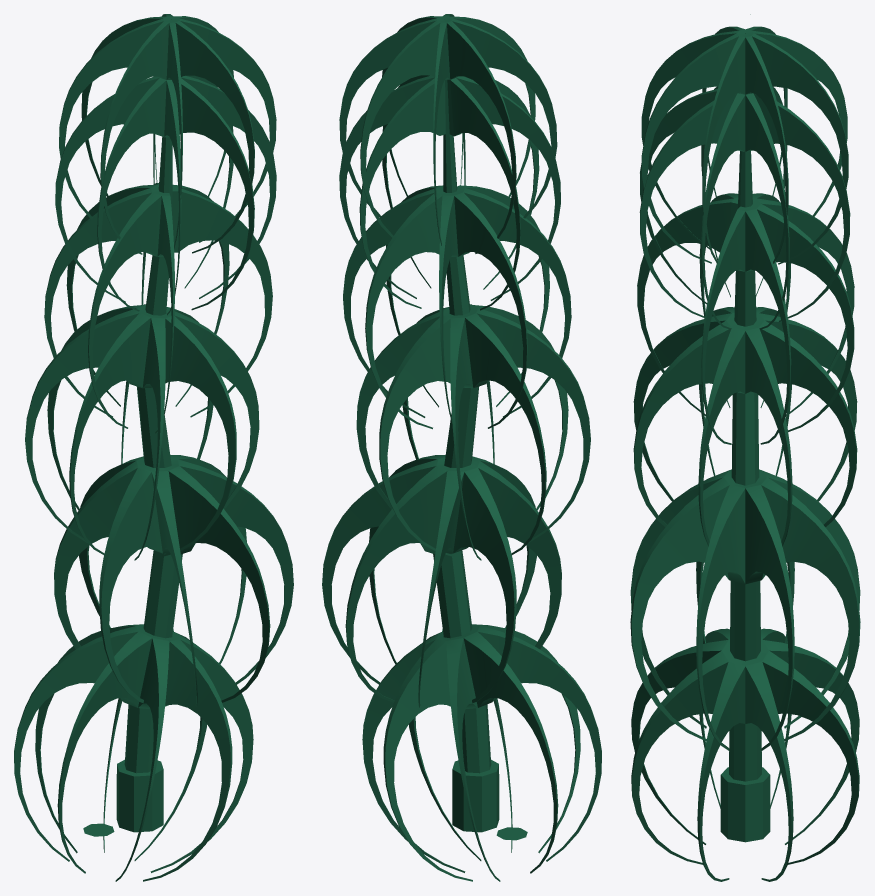
The model's file is Водоросль  2.0.fbx.
3 views of the same model, side by side, from view 1: azimuth 30°, elevation 25°; view 2: azimuth 150°, elevation 25°; view 3: azimuth 270°, elevation 25° (orthographic). The views are drawn at different scales.
Parts seen in each view (by area): view 1: Объект_Цилиндр_2; view 2: Объект_Цилиндр_2; view 3: Объект_Цилиндр_2.
Boxes of the visible parts, x1,y1,x2,y2 form: Объект_Цилиндр_2: [14, 14, 293, 881]; Объект_Цилиндр_2: [322, 14, 601, 881]; Объект_Цилиндр_2: [630, 14, 860, 881].
Size of the model in its own units: 469 by 1606 by 389.
